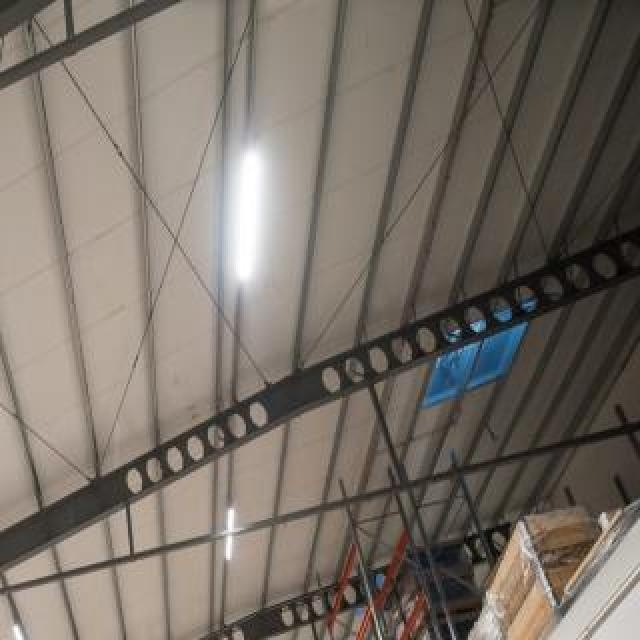fluorescent tube: (227, 129, 271, 300), (206, 493, 249, 589), (0, 586, 44, 640)
